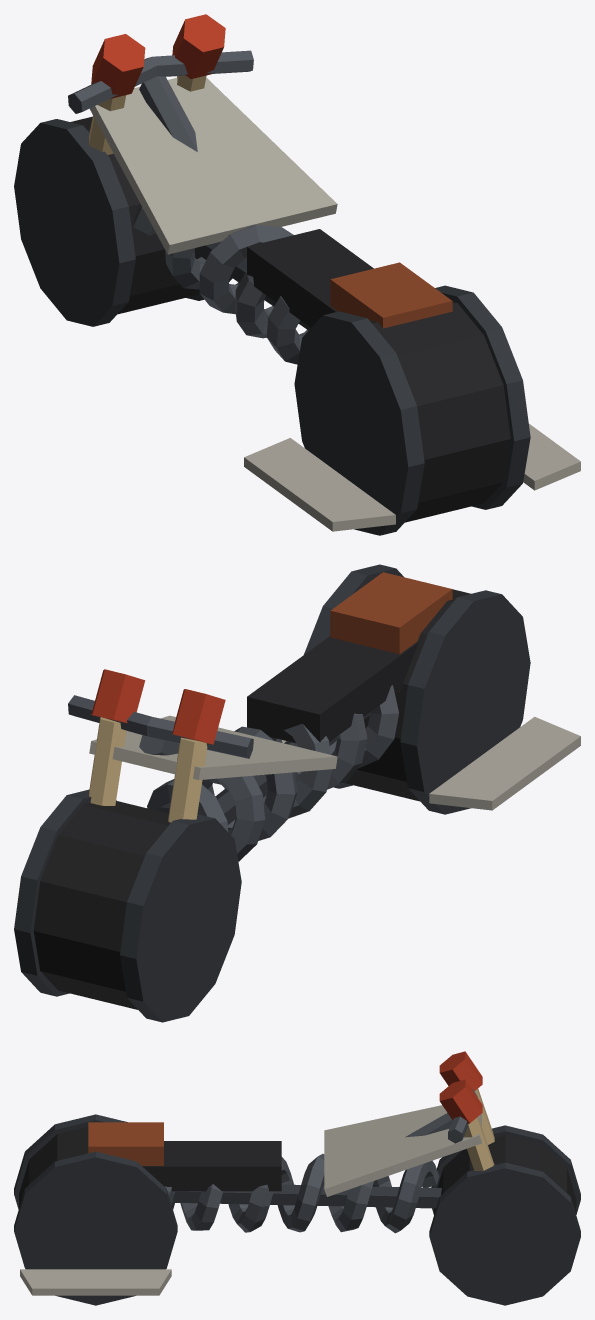
File: bike_combine.glb
3 renders of one model, top to bottom at view 1: azimuth 30°, elevation 25°; view 2: azimuth 150°, elevation 25°; view 3: azimuth 270°, elevation 25°, orthographic. The views are drawn at different scales.
Parts seen in each view (by area): view 1: bike_combine_body; view 2: bike_combine_body; view 3: bike_combine_body.
Boxes of the visible parts, <box> form: bike_combine_body: <box>14,14,580,535</box>; bike_combine_body: <box>14,564,580,1022</box>; bike_combine_body: <box>14,1051,580,1305</box>.
Size of the model in its own units: 1.36 by 1.57 by 3.74.
